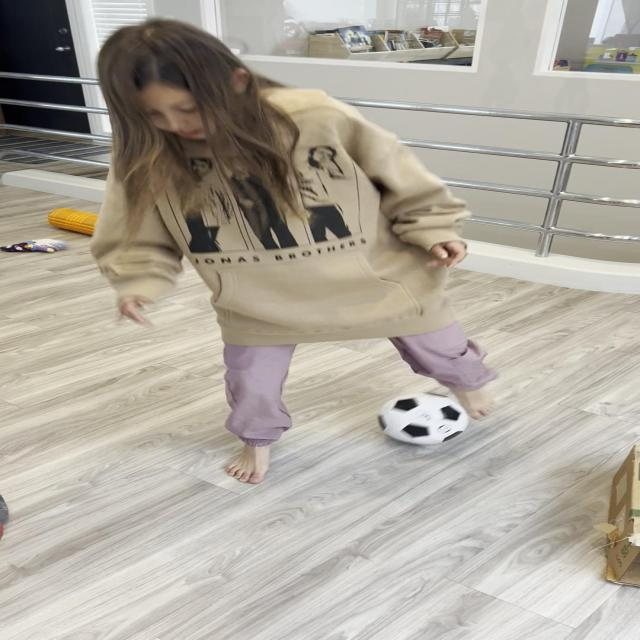Soccer Ball: (377, 393, 469, 445)
